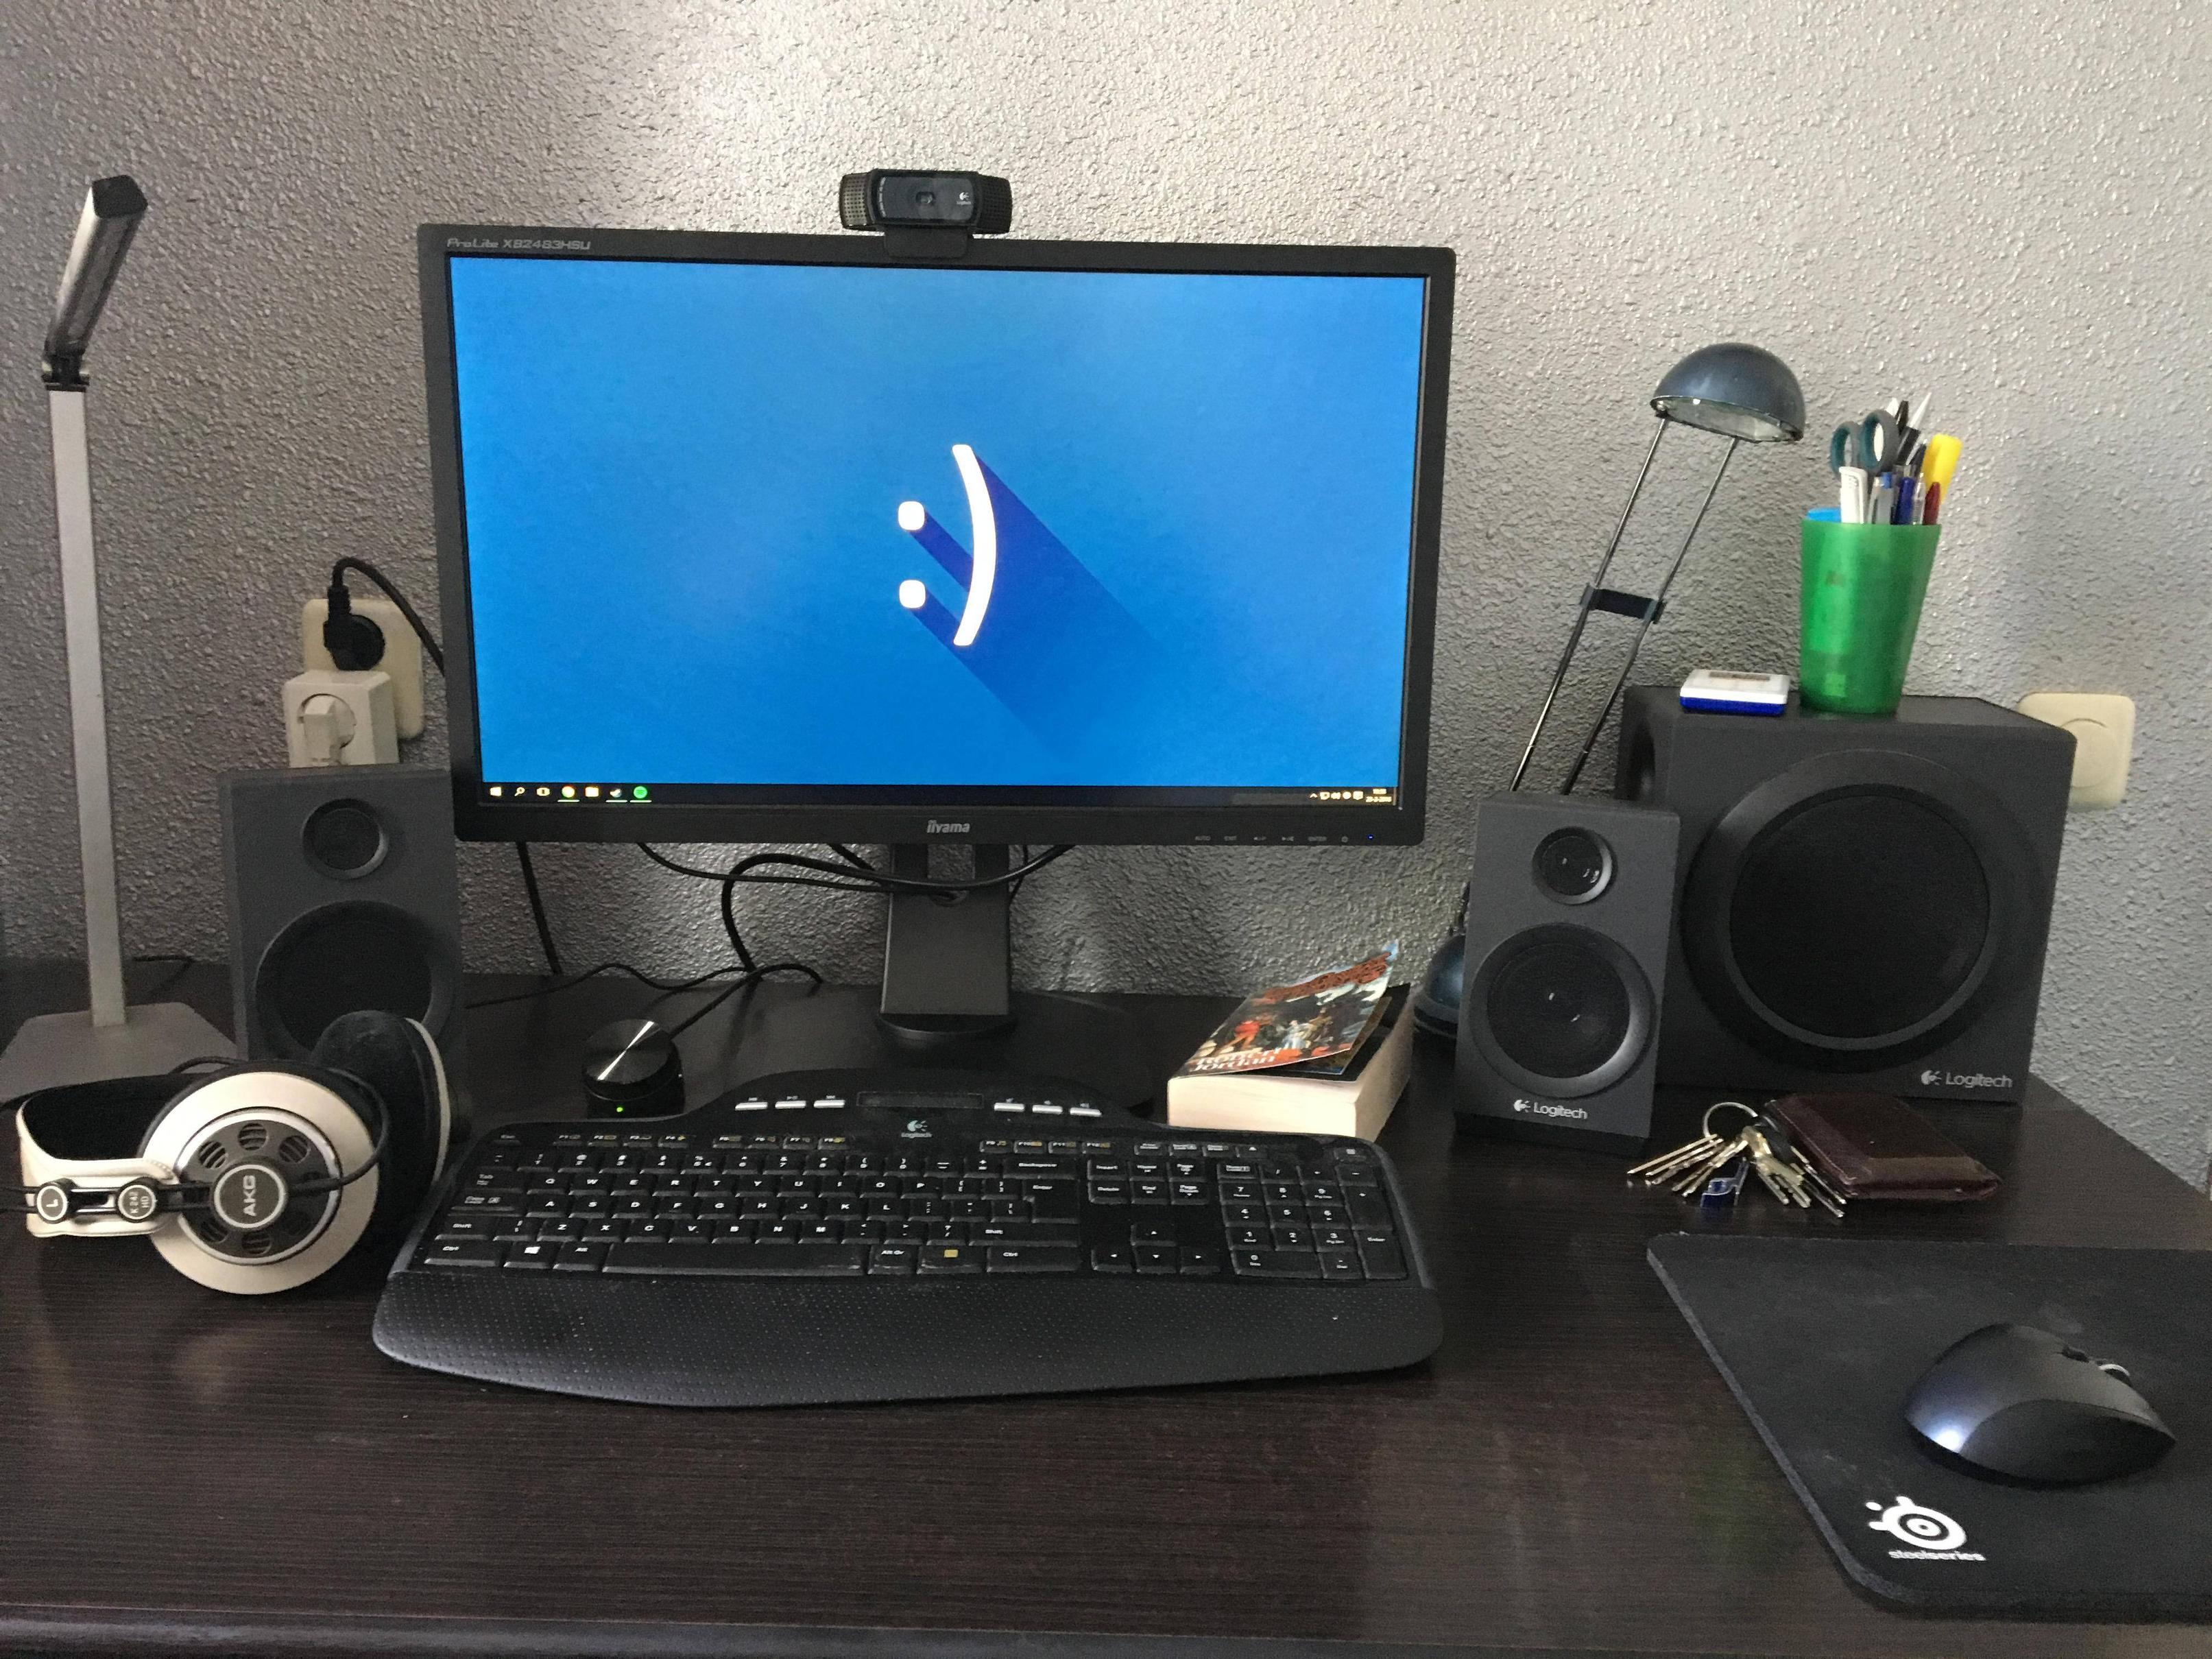Desk (Generic): (0, 925, 2198, 1656)
External Speakers (Subwoofers): (1641, 685, 2038, 1119), (221, 755, 469, 1063), (1477, 795, 1693, 1140)
External Webcam: (833, 162, 1031, 258)
Headphones: (0, 1021, 470, 1262)
Keyboard (Generic): (368, 1094, 1477, 1427)
Lamp (Desk): (1390, 305, 1792, 1053), (0, 174, 256, 1091)
Monitor (Landscape): (409, 214, 1420, 847)
Mouse (Generic): (1836, 1288, 2175, 1514)
Mousepad (Generic): (1642, 1213, 2212, 1608)
